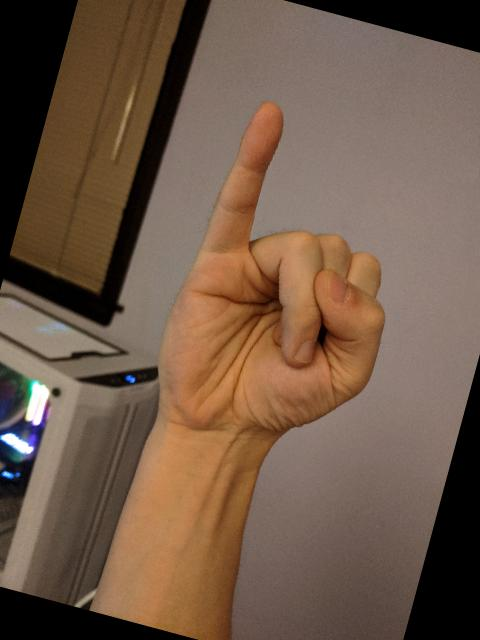I: (128, 80, 440, 484)
